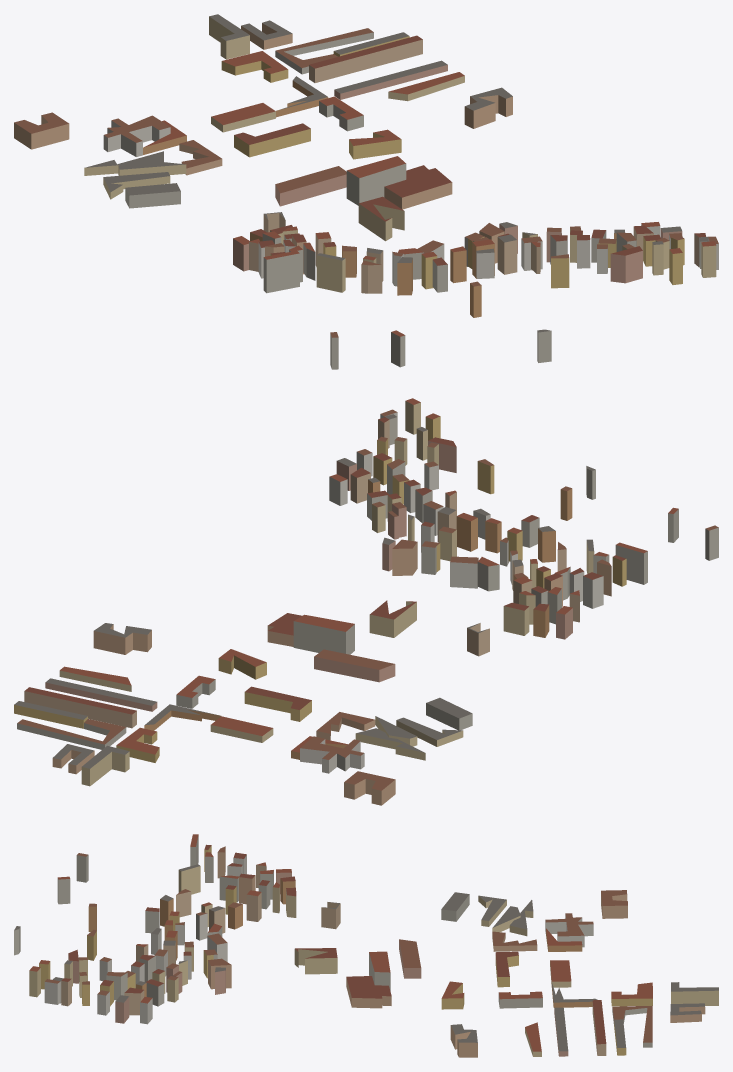
Rendered from SM_Fondale_Citta_NO_02_LOD2.fbx.
The picture shows the model from 3 angles, top to bottom: view 1: azimuth 30°, elevation 25°; view 2: azimuth 150°, elevation 25°; view 3: azimuth 270°, elevation 25°; orthographic projection. The views are drawn at different scales.
Visible parts, largest first — view 1: SM_Fondale_Citta_NO_02_LOD2; view 2: SM_Fondale_Citta_NO_02_LOD2; view 3: SM_Fondale_Citta_NO_02_LOD2.
Boxes of the visible parts, bbox=[...] form: SM_Fondale_Citta_NO_02_LOD2: bbox=[14, 14, 718, 369]; SM_Fondale_Citta_NO_02_LOD2: bbox=[14, 398, 718, 805]; SM_Fondale_Citta_NO_02_LOD2: bbox=[14, 834, 718, 1057].
Bounding box in the file's own units: 44874 × 81113 × 8266.
